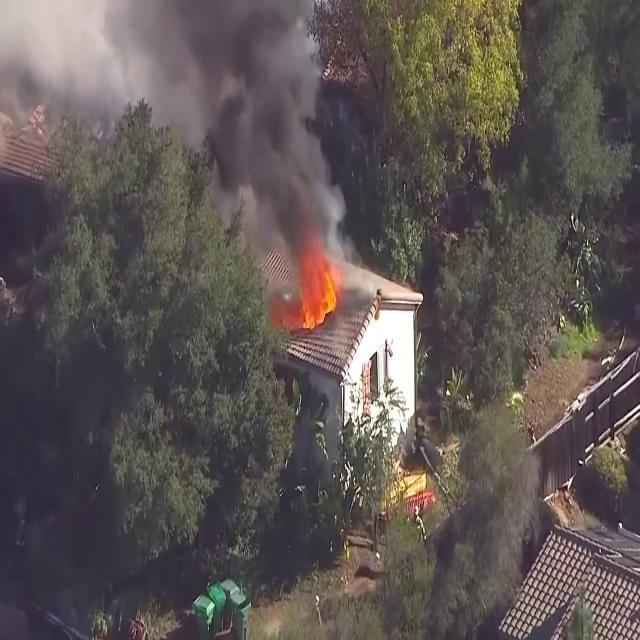Fire: (298, 262, 342, 332)
Smoke: (157, 0, 350, 278)
